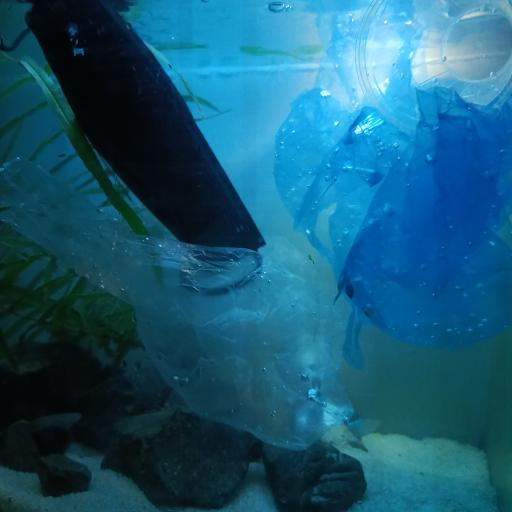mask: (26, 1, 266, 292)
plastic_bag: (0, 152, 357, 449), (264, 0, 512, 348)
plastic_cup: (350, 0, 512, 136)
